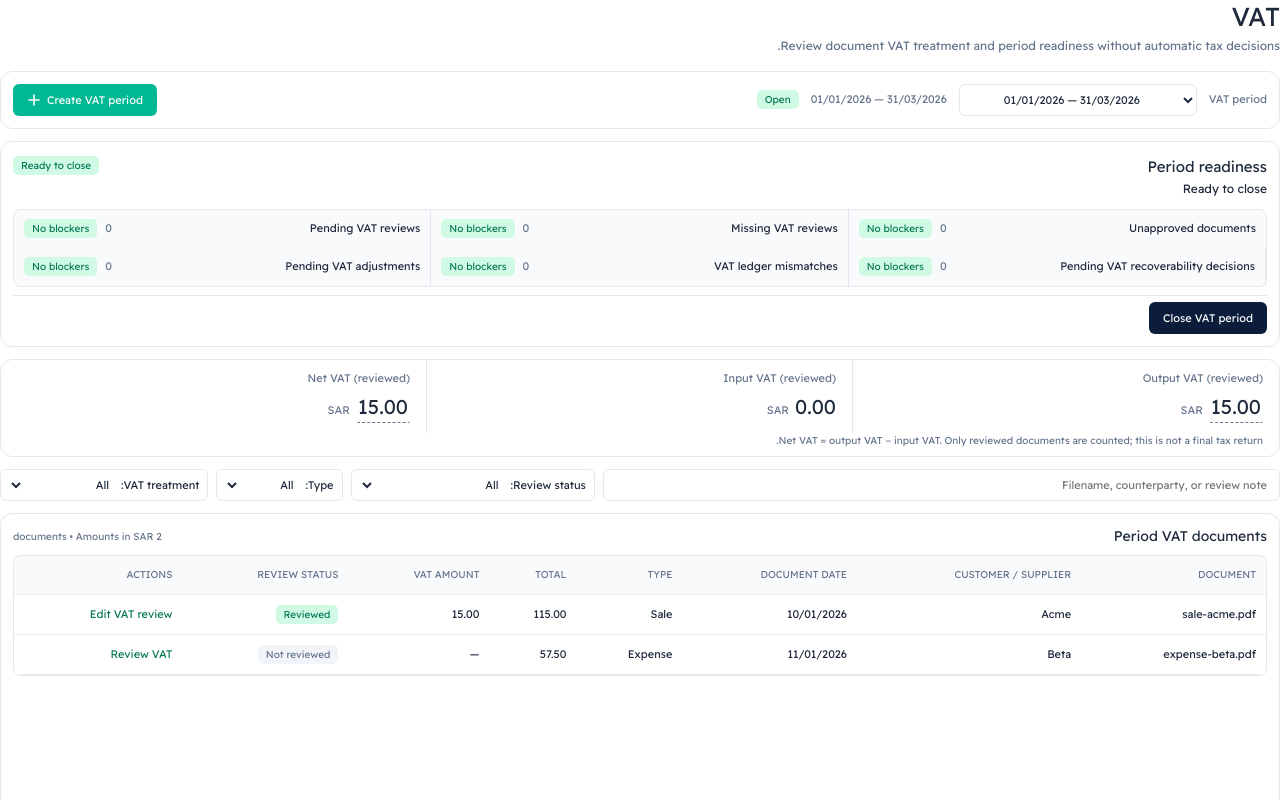
Test: VAT review workspace › refreshes the open detail pane after saving a VAT review
The width and height of the screenshot is (1280, 800).
Click the cell "sale-acme.pdf" at [1174, 614], box [1081,594,1266,634]
(page scrolled)
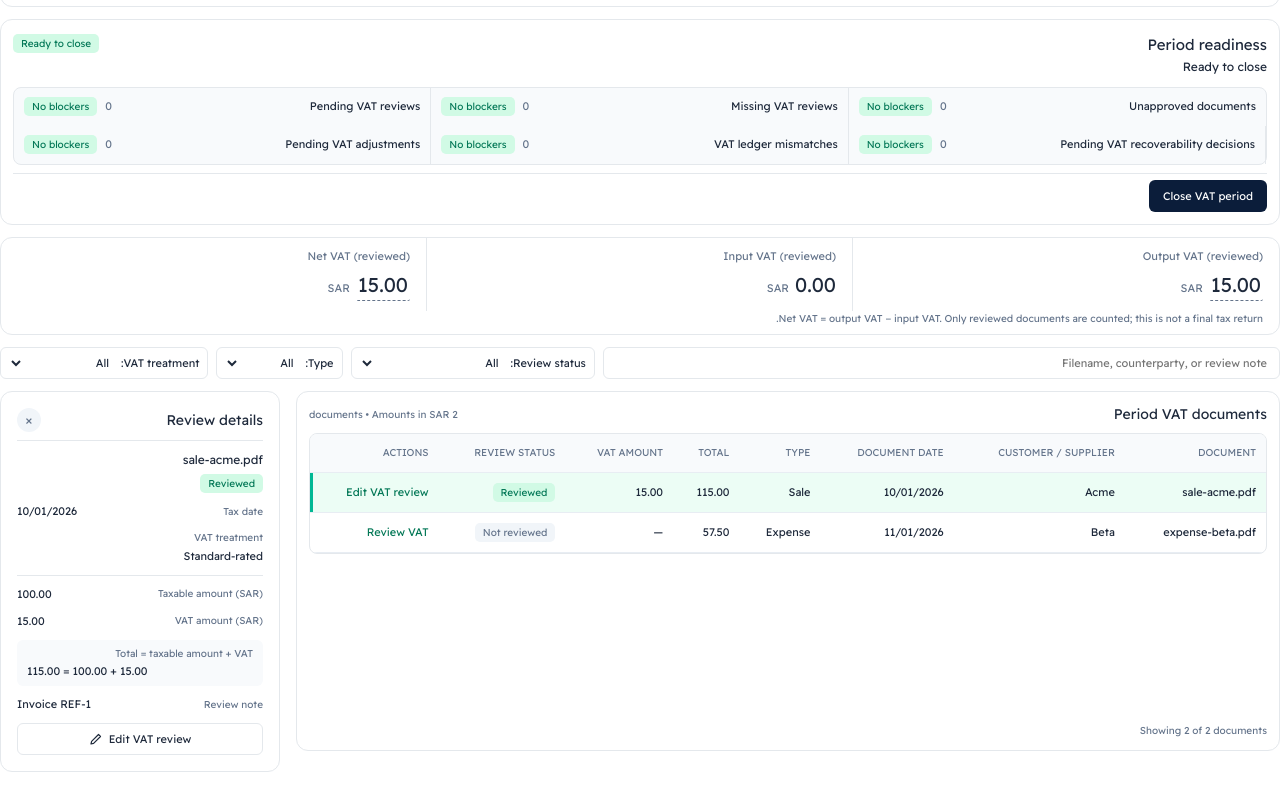
Now the text "Invoice REF-1" is shown, box [17,696,91,713]
Click the button "Edit VAT review" below "Invoice REF-1" at [140, 739], box [17,723,263,755]
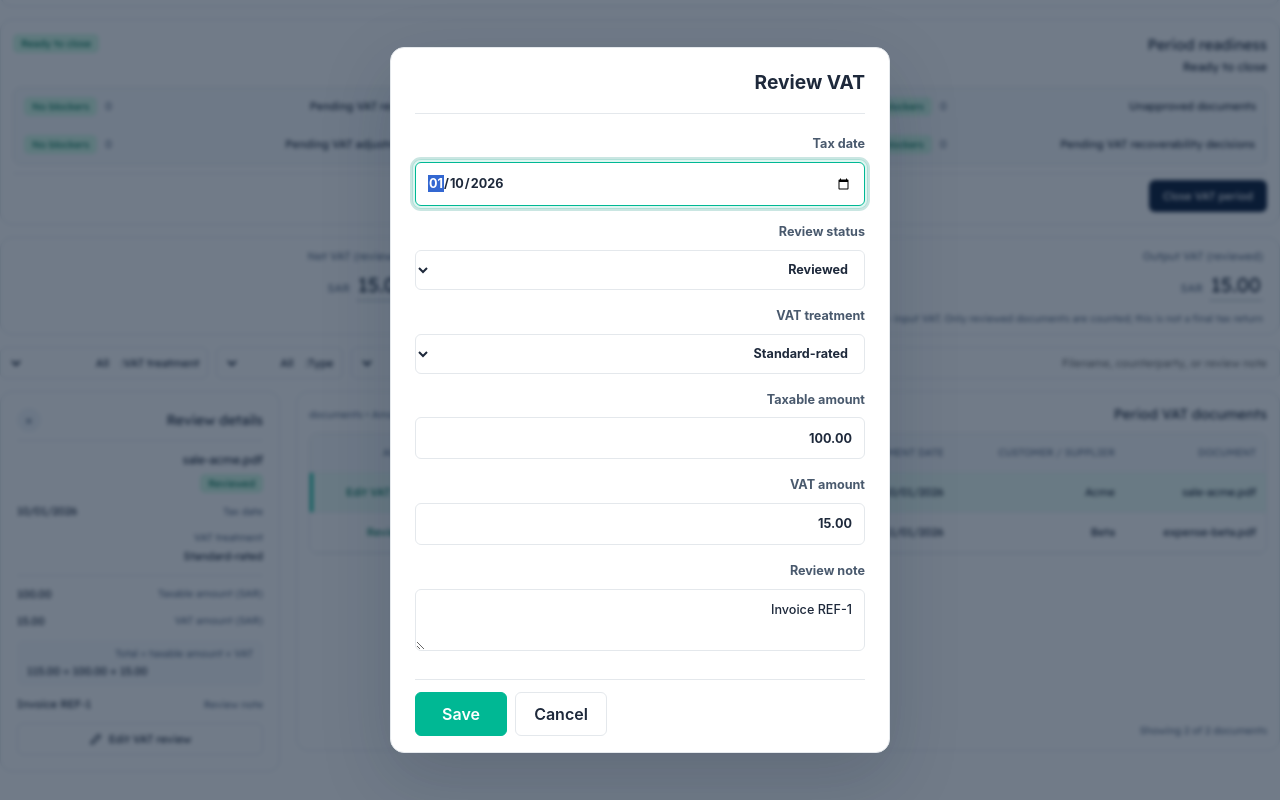
Type "2026-02-20" into the date field labelled "Tax date" at [640, 184], box [415,162,865,206]
Select "Zero-rated" in the dropdown labelled "VAT treatment" at [640, 354], box [415,334,865,374]
Replace the text in the field labelled "Taxable amount" with "220.00" at [640, 438], box [415,417,865,459]
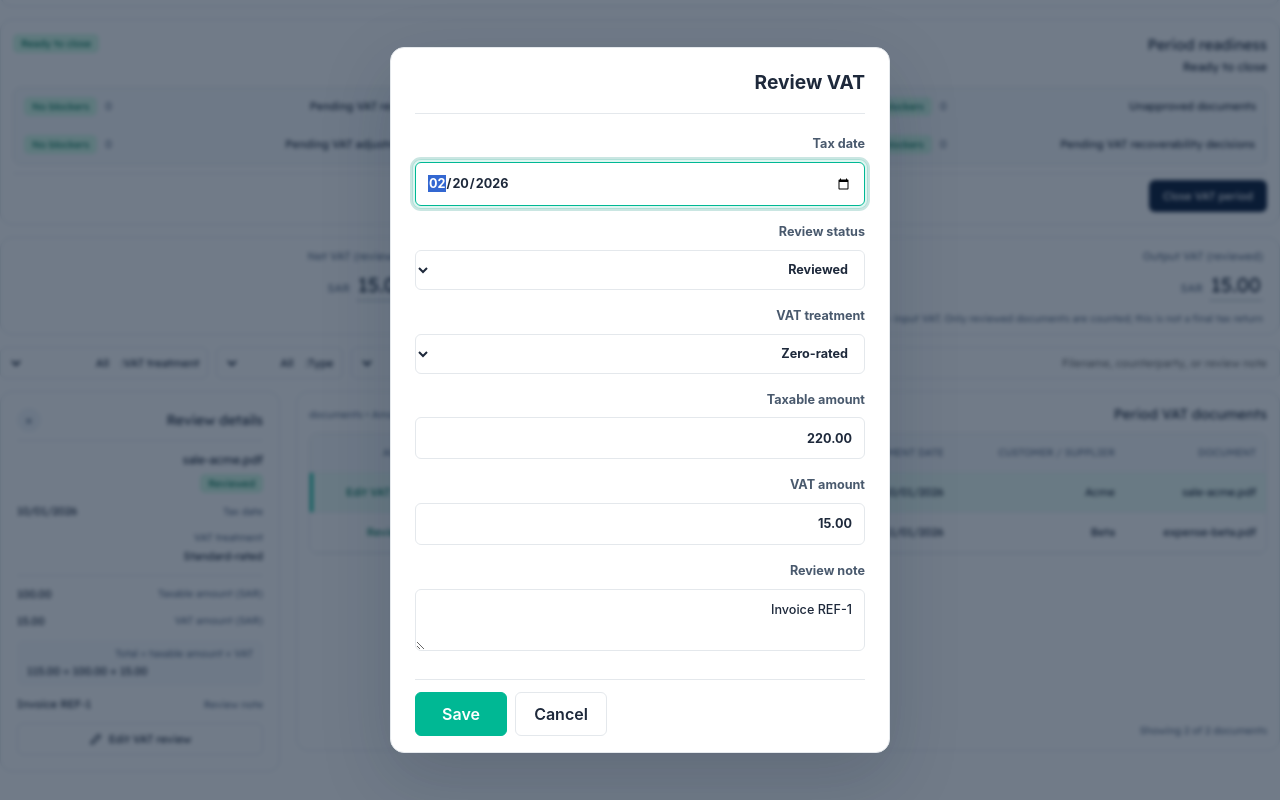
Replace the text in the field labelled "VAT amount" with "0.00" at [640, 524], box [415,503,865,545]
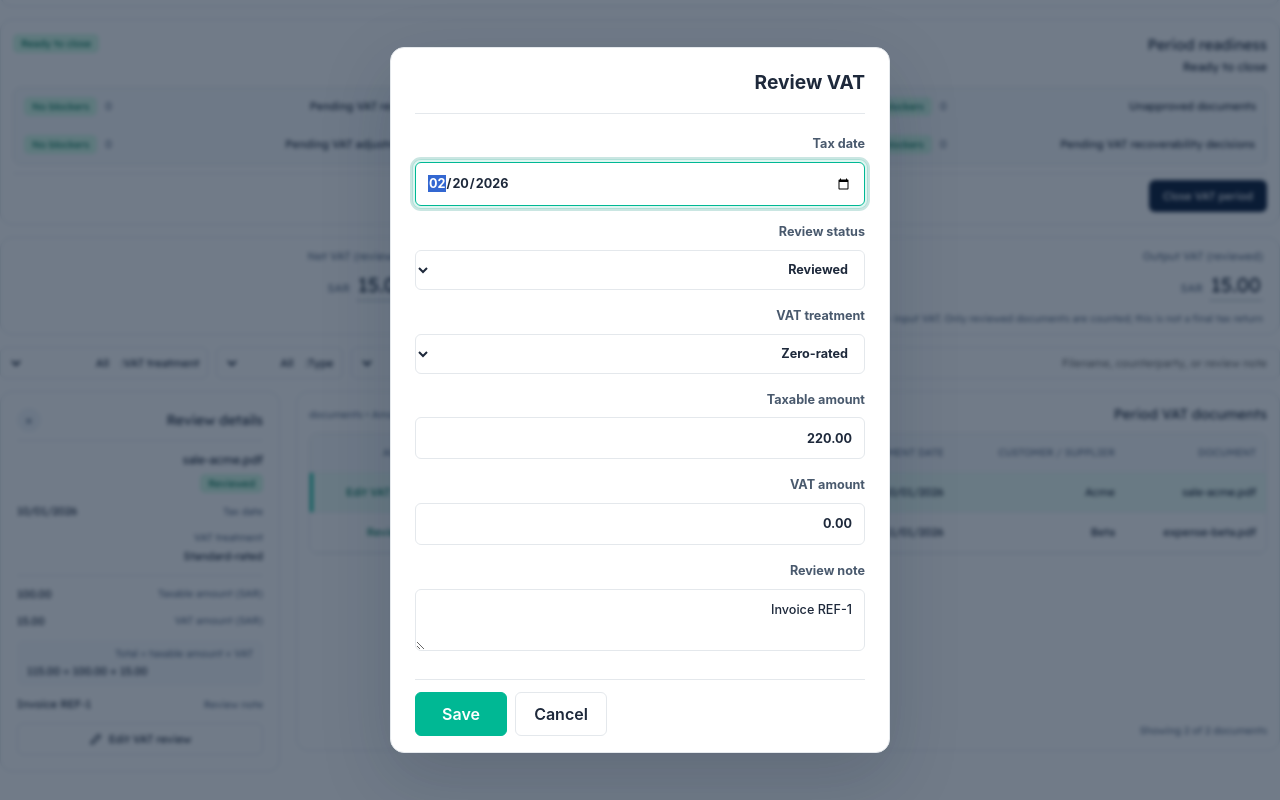
Replace the text in the text box labelled "Review note" with "Updated REF-2" at [640, 620], box [415,589,865,651]
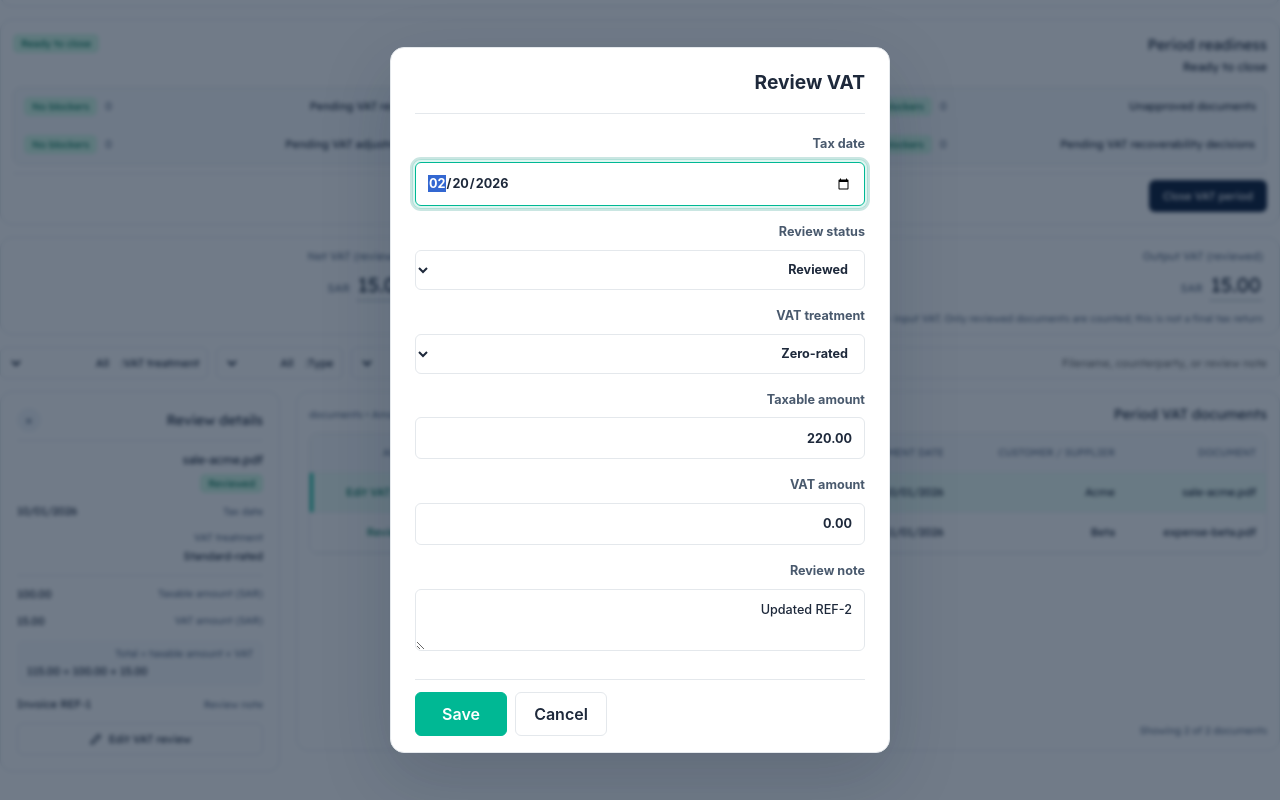
Click the button "Save" at [461, 714], box [415,692,507,736]
(page scrolled)
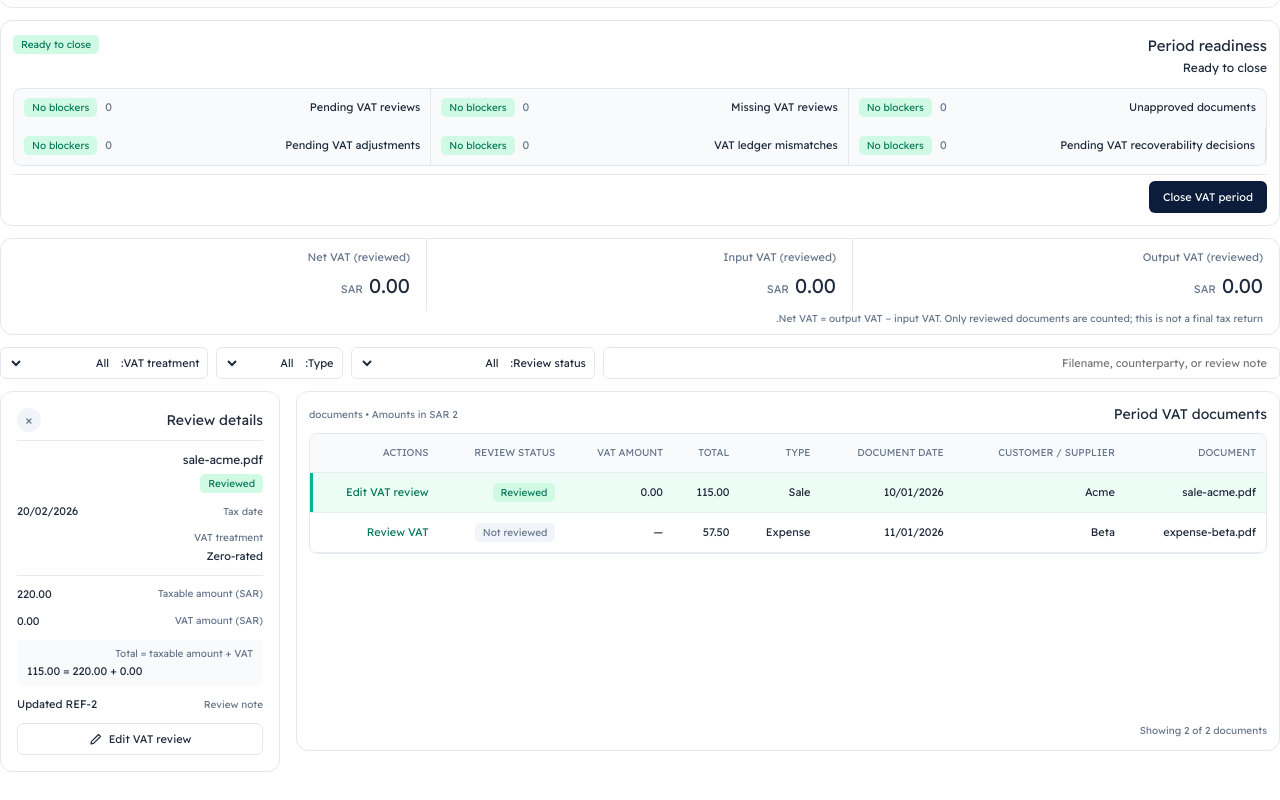
Now the text "Updated REF-2" is shown, box [17,696,97,713]
Now the text "Zero-rated" is shown, box [206,548,263,565]
Now the text "220.00" is shown, box [17,587,52,601]
